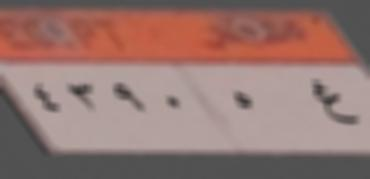0: (161, 84, 191, 121)
3: (68, 76, 100, 115)
4: (28, 74, 64, 116)
9: (111, 78, 151, 116)
ghayn: (306, 72, 358, 127)
haa: (228, 84, 266, 121)
